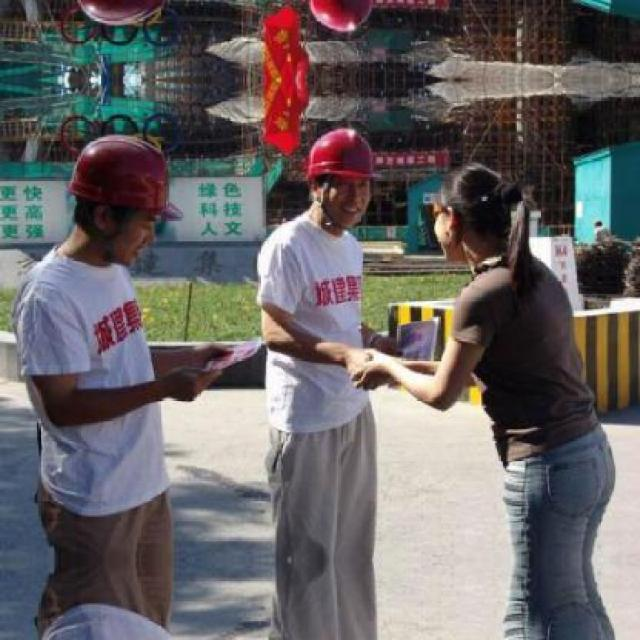helmet: (56, 114, 186, 228), (303, 117, 388, 194)
